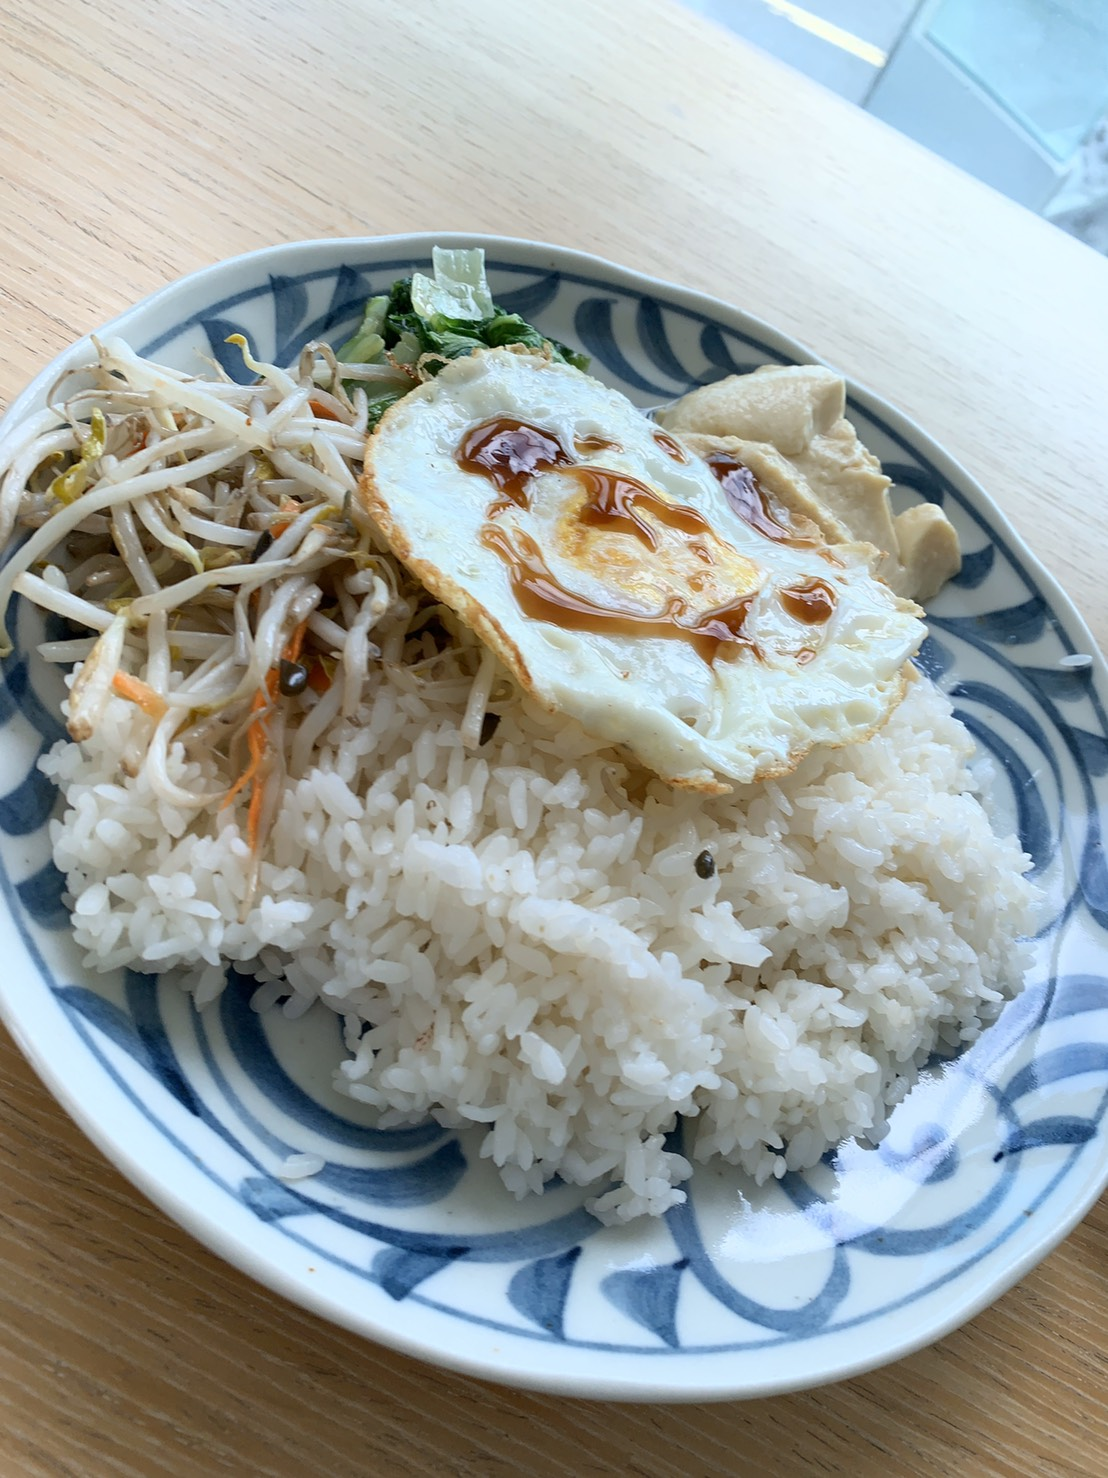fried_eggs: (367, 348, 914, 793)
mung_bean_sprouts: (83, 374, 363, 658)
rice: (351, 772, 900, 1103)
